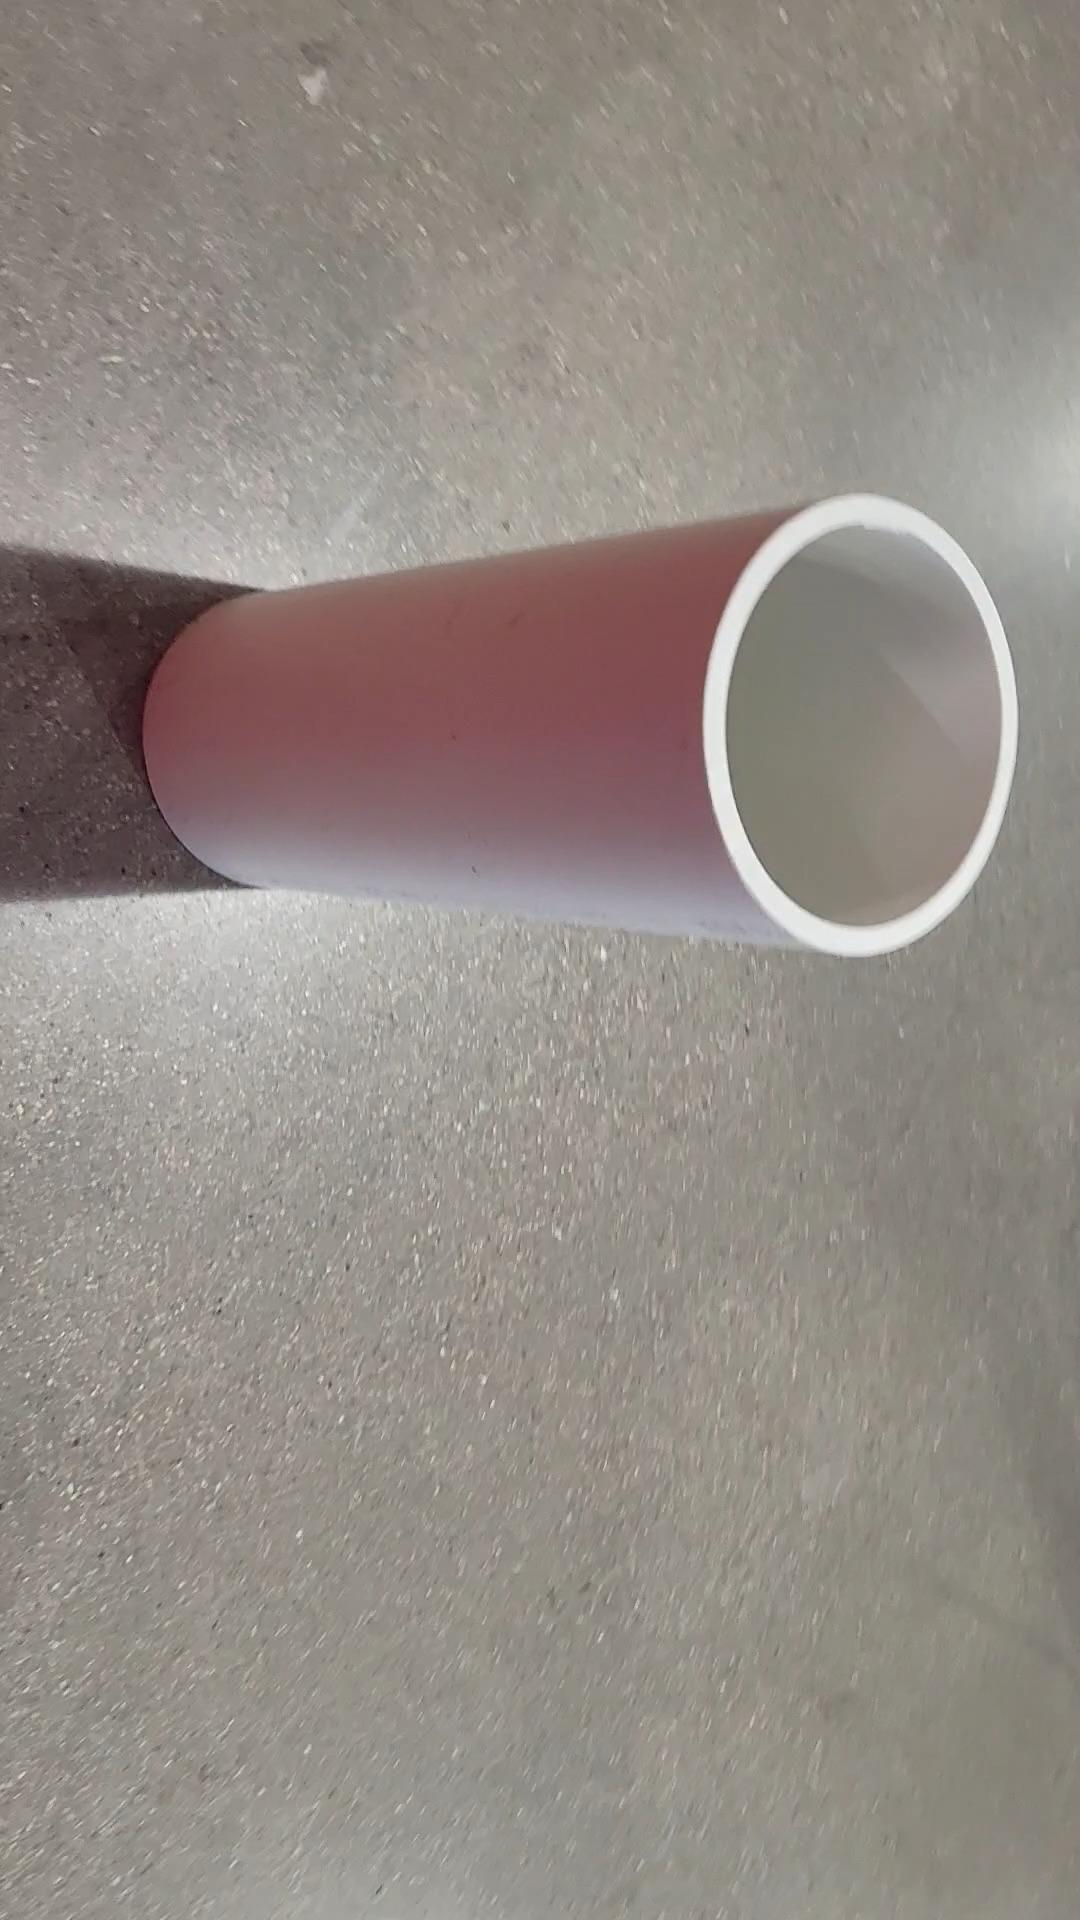coral: (131, 504, 1017, 956)
